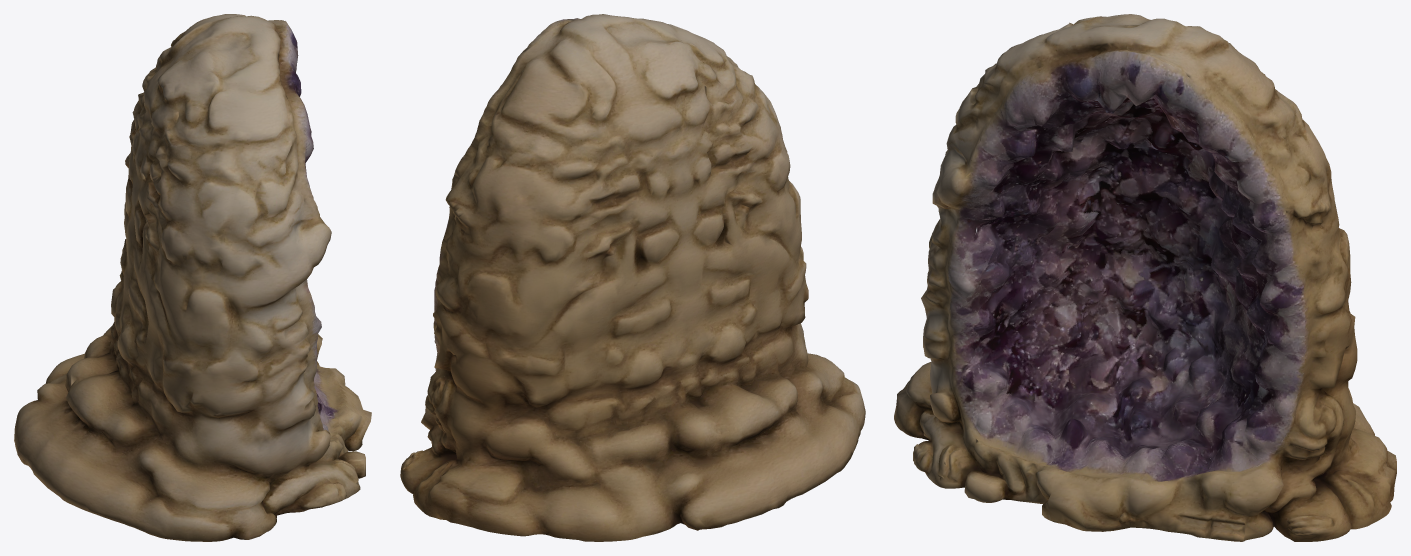
Rendered from ch10_geode_crystal_wall_LOD0.glb.
3 renders of one model, left to right at view 1: azimuth 30°, elevation 25°; view 2: azimuth 150°, elevation 25°; view 3: azimuth 270°, elevation 25°, orthographic. The views are drawn at different scales.
Parts seen in each view (by area): view 1: tripo_node_a2872151-7de7-4f96-a33a-80caff468798; view 2: tripo_node_a2872151-7de7-4f96-a33a-80caff468798; view 3: tripo_node_a2872151-7de7-4f96-a33a-80caff468798.
Part boxes in pixels (x1,y1,x2,y2): tripo_node_a2872151-7de7-4f96-a33a-80caff468798: (14,14,371,541); tripo_node_a2872151-7de7-4f96-a33a-80caff468798: (400,14,865,541); tripo_node_a2872151-7de7-4f96-a33a-80caff468798: (894,14,1396,541).
Size of the model in its own units: 0.8301 by 0.998 by 0.9902.
1 material, 1 textured.
